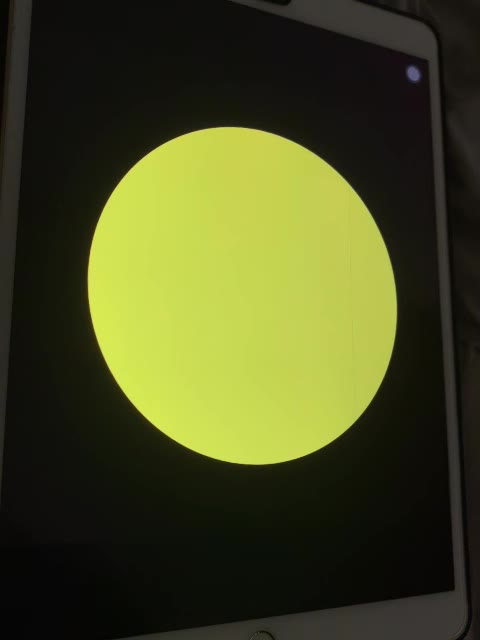left: (86, 114, 406, 476)
